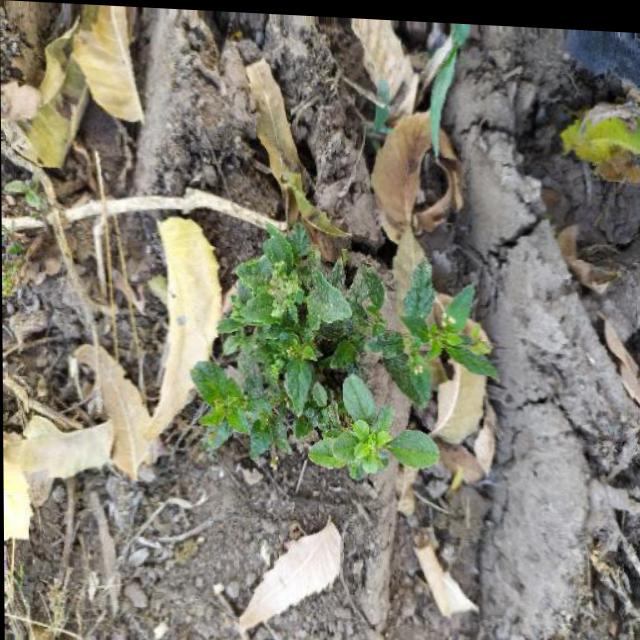weed: (166, 213, 513, 520)
